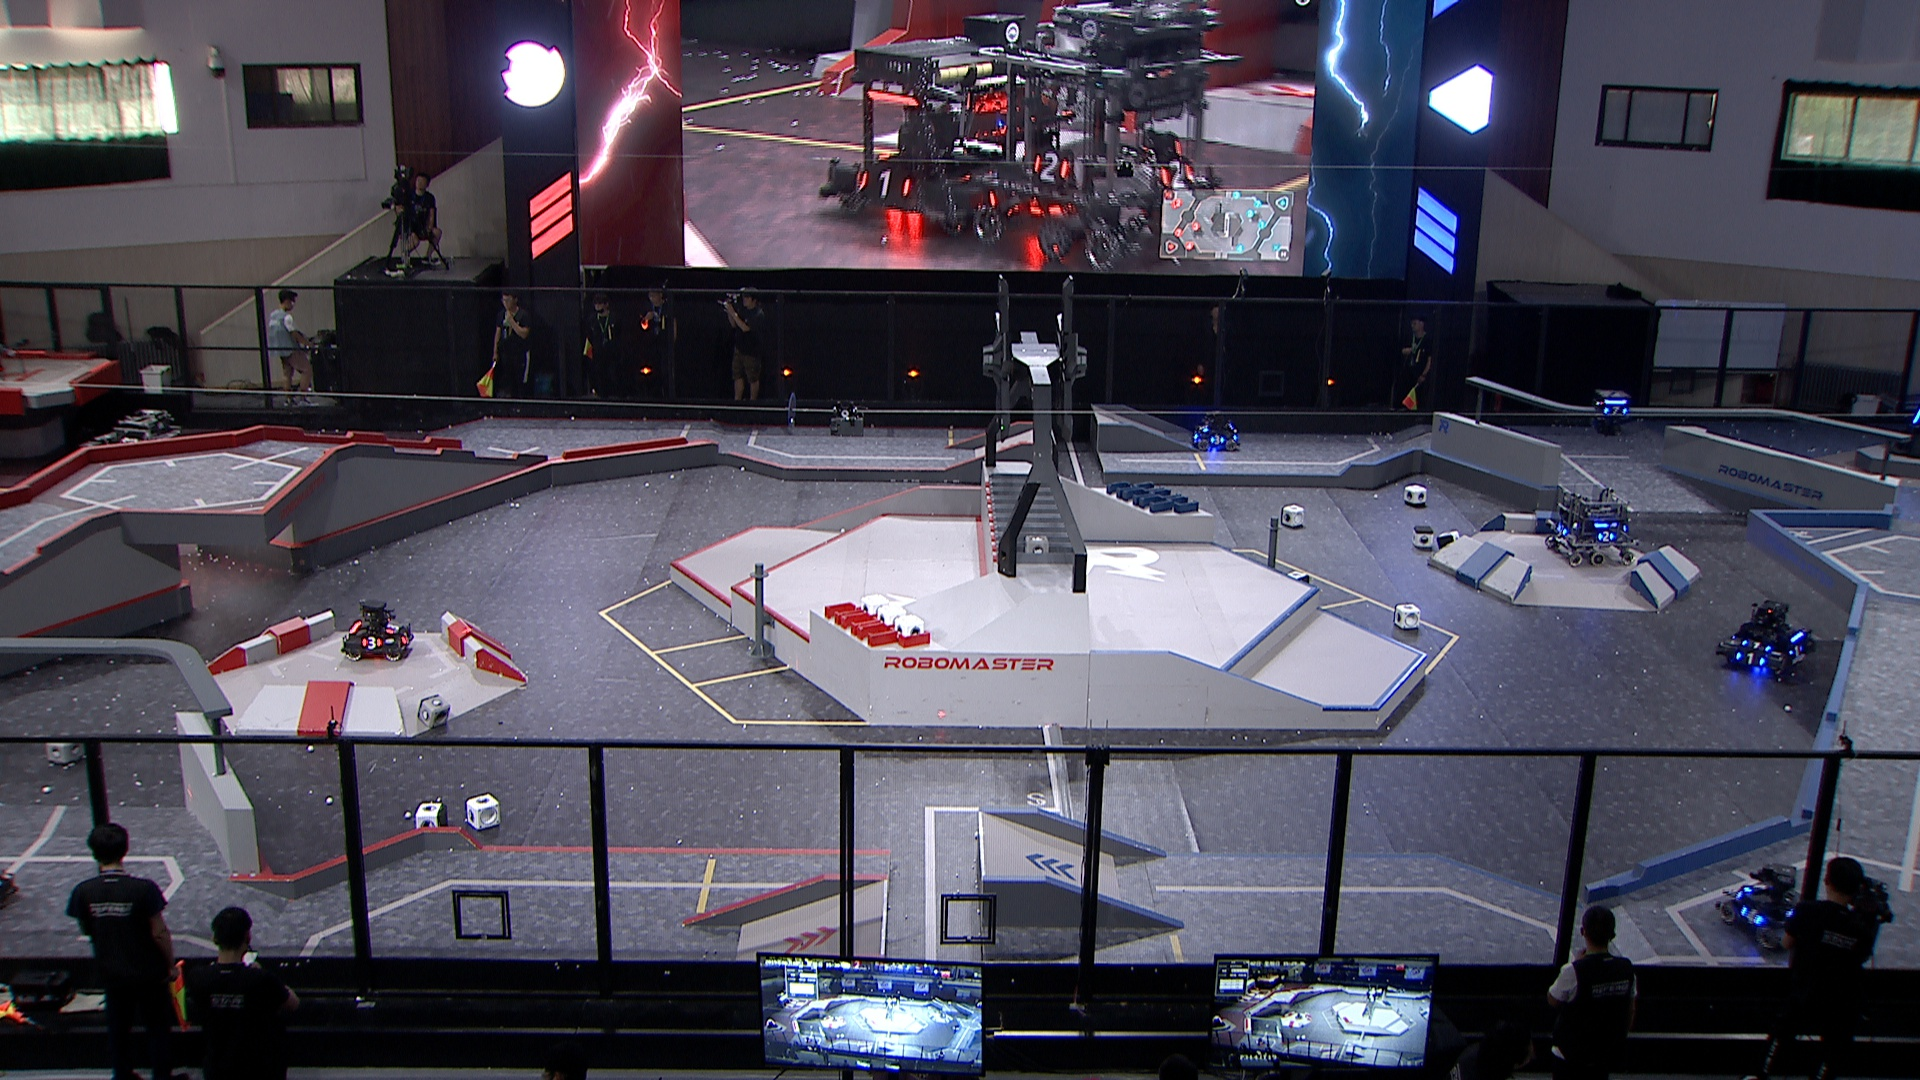armor: (1738, 905, 1766, 928), (1735, 647, 1768, 666), (1741, 638, 1774, 651), (1604, 405, 1629, 418), (385, 618, 404, 636), (359, 636, 384, 647), (1596, 529, 1615, 543), (1742, 882, 1768, 893), (1785, 645, 1808, 657), (1555, 524, 1571, 538), (1207, 434, 1226, 444), (400, 628, 411, 645), (1197, 425, 1209, 434)
car: (1712, 862, 1811, 955), (1718, 599, 1817, 683), (1544, 481, 1642, 566), (95, 410, 183, 493), (339, 597, 417, 665), (1188, 407, 1242, 450)
ignore: (820, 11, 1036, 235)
watcher: (1589, 389, 1638, 438)
